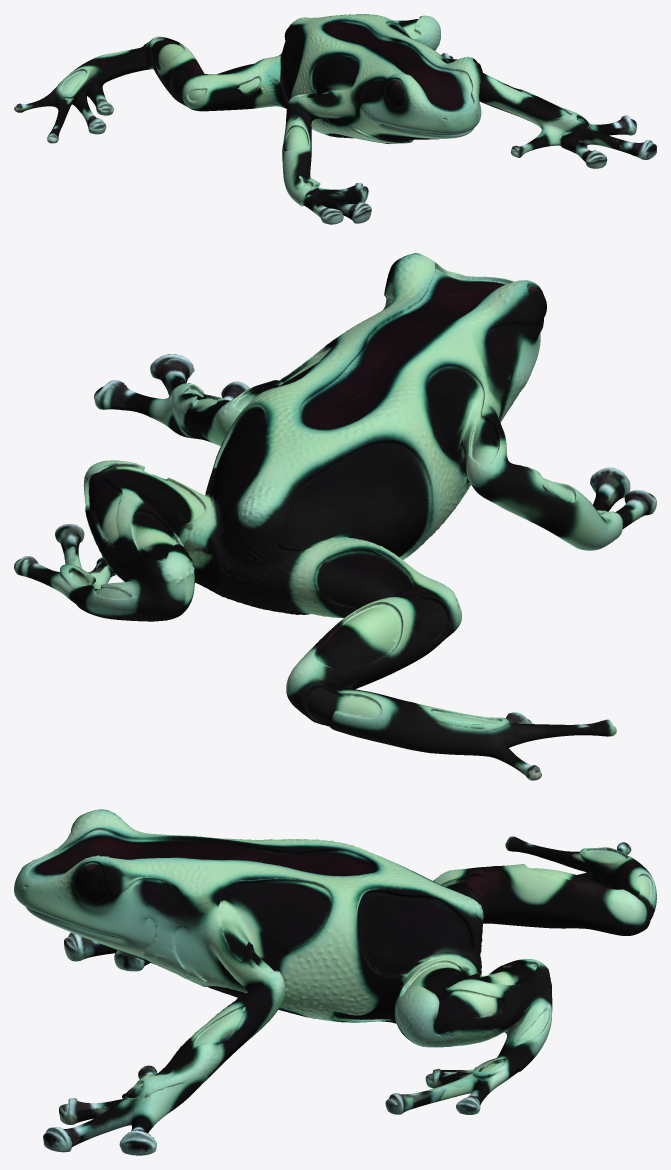
The model's file is harlequin_mesh.glb.
3 renders of one model, top to bottom at view 1: azimuth 30°, elevation 25°; view 2: azimuth 150°, elevation 25°; view 3: azimuth 270°, elevation 25°, orthographic. The views are drawn at different scales.
Size of the model in its own units: 1.9 by 0.5245 by 1.65.
1 material, 1 textured.
